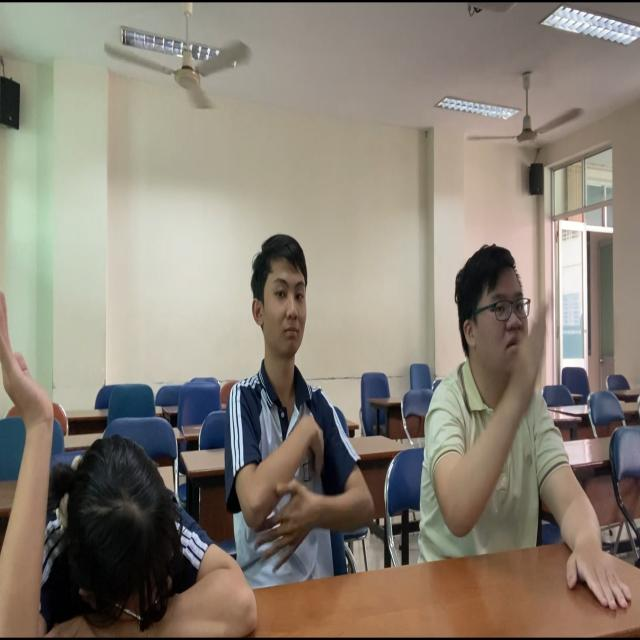sleep: (5, 436, 261, 638)
